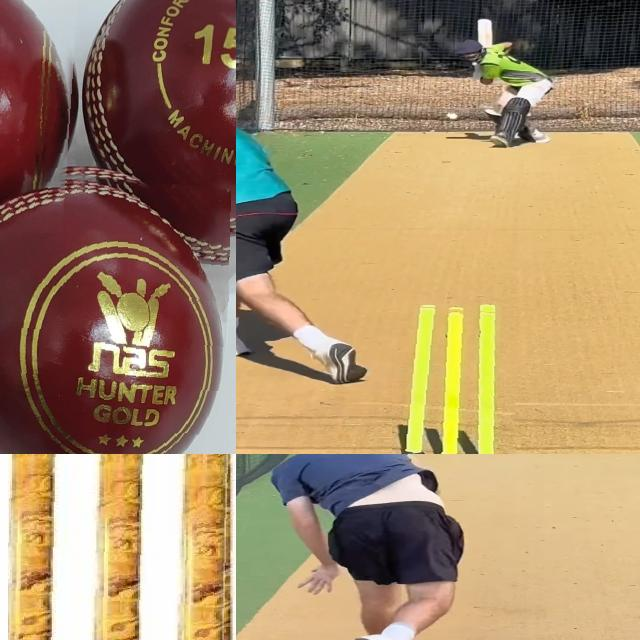Cricket ball: (0, 161, 230, 454), (0, 0, 80, 233), (444, 110, 460, 121)
Stumps: (8, 454, 231, 640), (392, 303, 521, 454)
